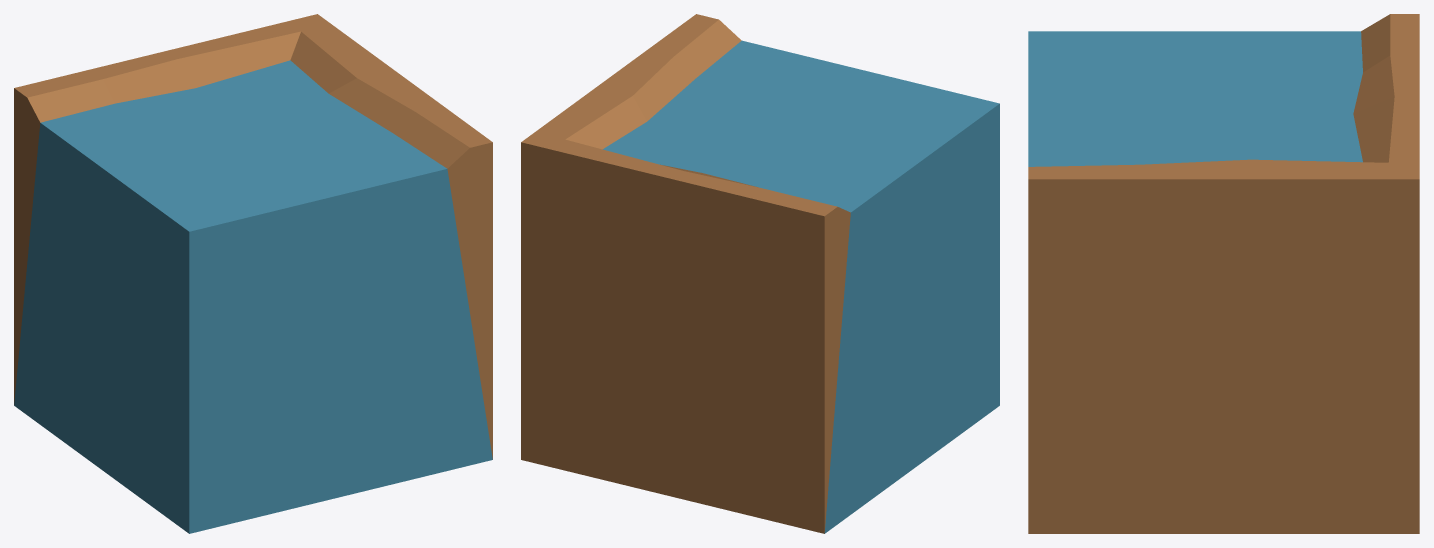
Rendered from outerCorner_river_tex_001.fbx.
3 views of the same model, side by side, from view 1: azimuth 30°, elevation 25°; view 2: azimuth 150°, elevation 25°; view 3: azimuth 270°, elevation 25° (orthographic). The views are drawn at different scales.
Visible parts, largest first — view 1: outercorner_river; view 2: outercorner_river; view 3: outercorner_river.
Boxes of the visible parts, x1,y1,x2,y2 form: outercorner_river: [14, 14, 492, 533]; outercorner_river: [521, 14, 999, 533]; outercorner_river: [1028, 14, 1419, 533].
Size of the model in its own units: 100 by 100 by 100.
